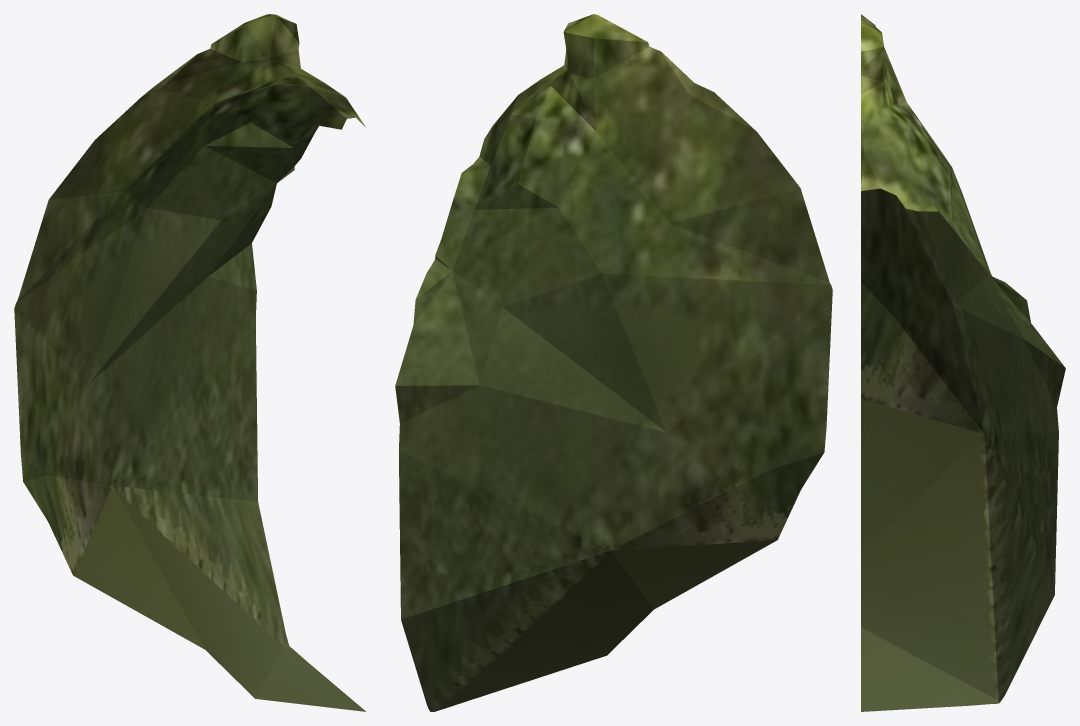
The picture shows the model from 3 angles, left to right: view 1: azimuth 30°, elevation 25°; view 2: azimuth 150°, elevation 25°; view 3: azimuth 270°, elevation 25°; orthographic projection. The views are drawn at different scales.
Size of the model in its own units: 1.25 by 2.44 by 0.704.
Materials: 1 (1 with a texture image).
